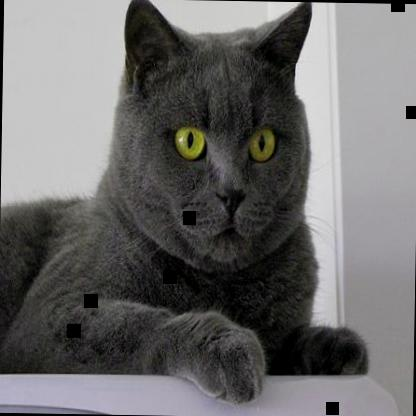cat: (0, 0, 376, 408)
